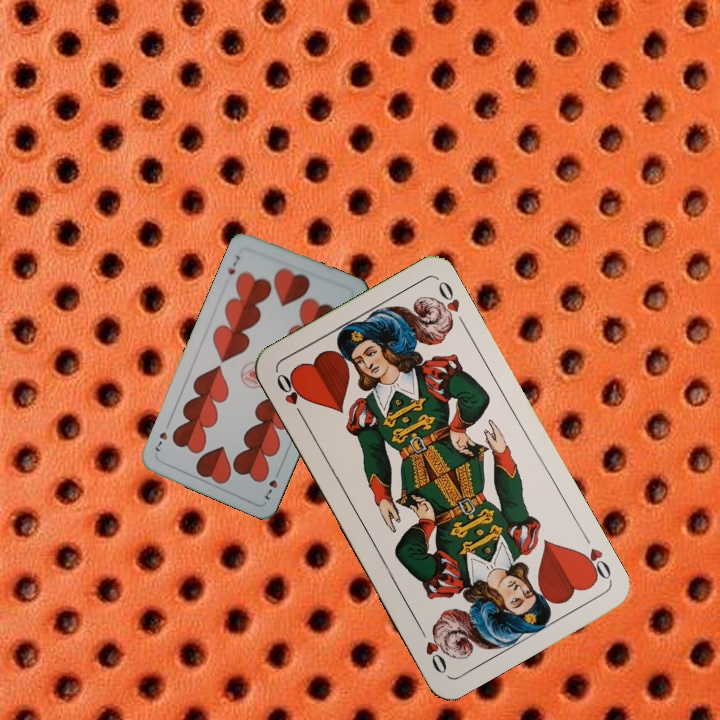H7: (260, 465, 283, 503), (224, 251, 243, 277)
HO: (272, 369, 308, 423), (574, 544, 614, 585)
